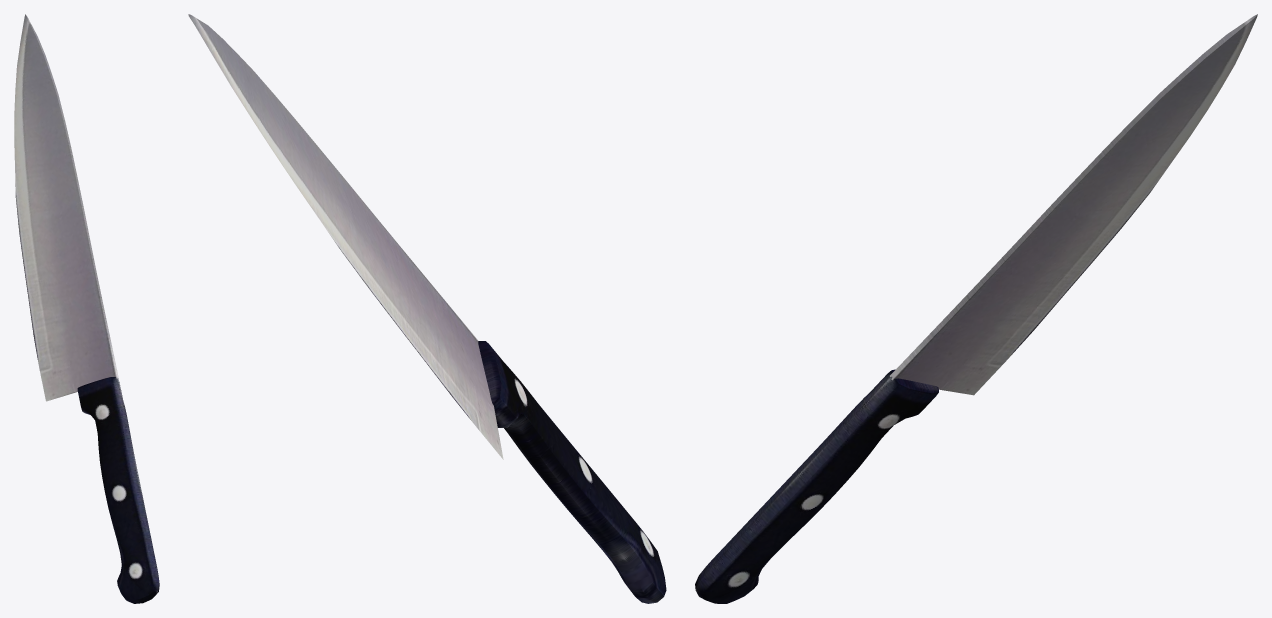
Rendered from butcher knife.fbx.
3 renders of one model, left to right at view 1: azimuth 30°, elevation 25°; view 2: azimuth 150°, elevation 25°; view 3: azimuth 270°, elevation 25°, orthographic. The views are drawn at different scales.
Parts seen in each view (by area): view 1: butcher knife; view 2: butcher knife; view 3: butcher knife.
Boxes of the visible parts, x1=… form: butcher knife: x1=14, y1=14, x2=159, y2=603; butcher knife: x1=188, y1=14, x2=666, y2=603; butcher knife: x1=695, y1=14, x2=1257, y2=603.
Size of the model in its own units: 28.33 by 139 by 111.
